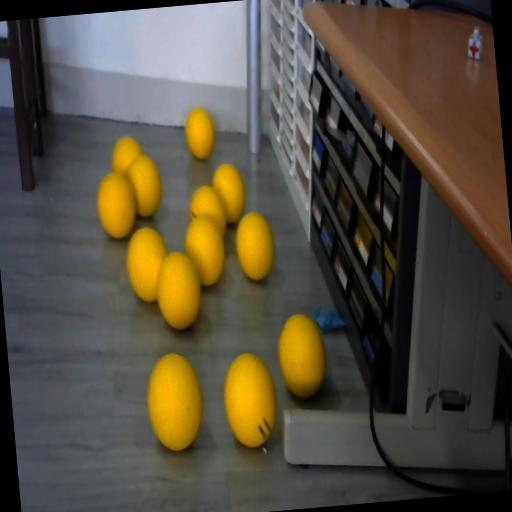FUEL: (142, 350, 206, 452), (219, 349, 281, 449), (274, 311, 328, 400), (124, 226, 172, 304), (182, 212, 229, 288), (232, 208, 277, 282), (94, 170, 139, 240), (125, 153, 164, 219), (211, 162, 248, 225), (184, 108, 216, 160)
